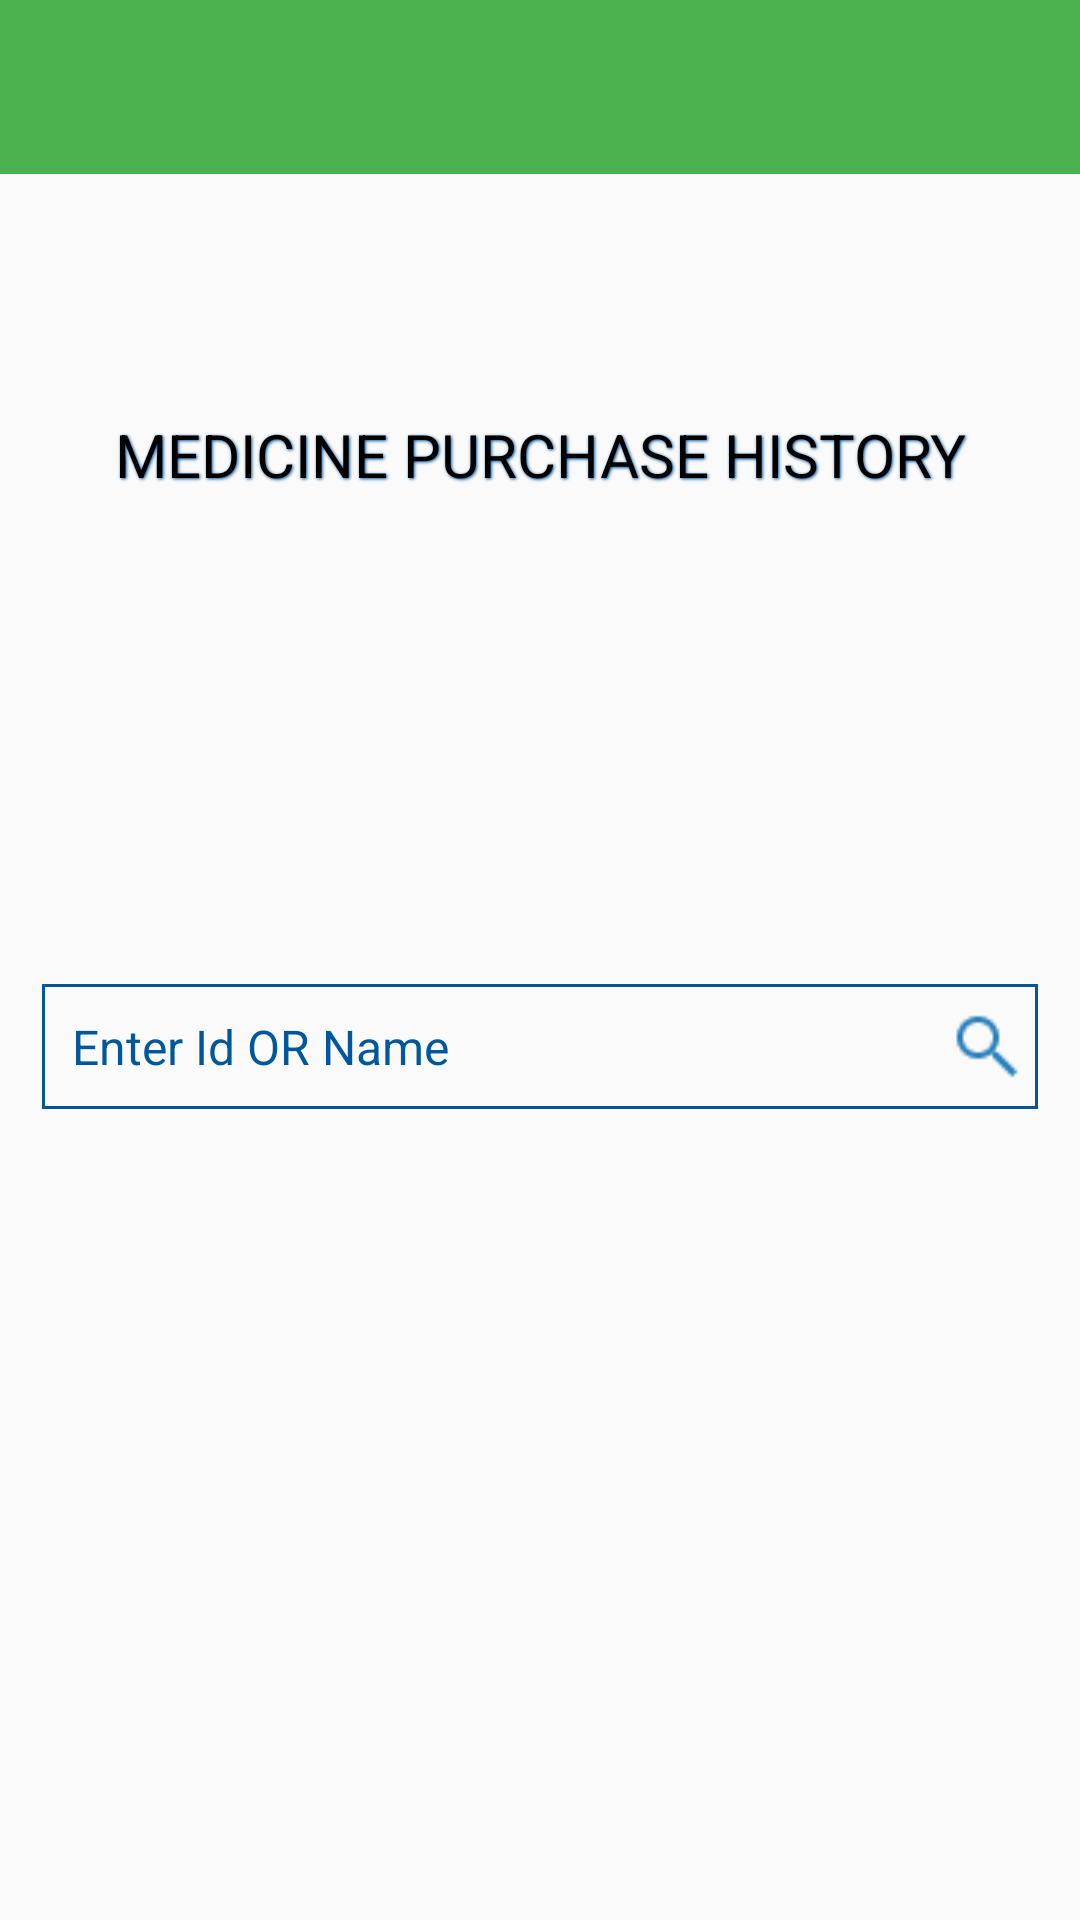

Screen size 1080 x 1920. Icon name, then its center in pixels as point (x, y):
search: point (987, 1046)
